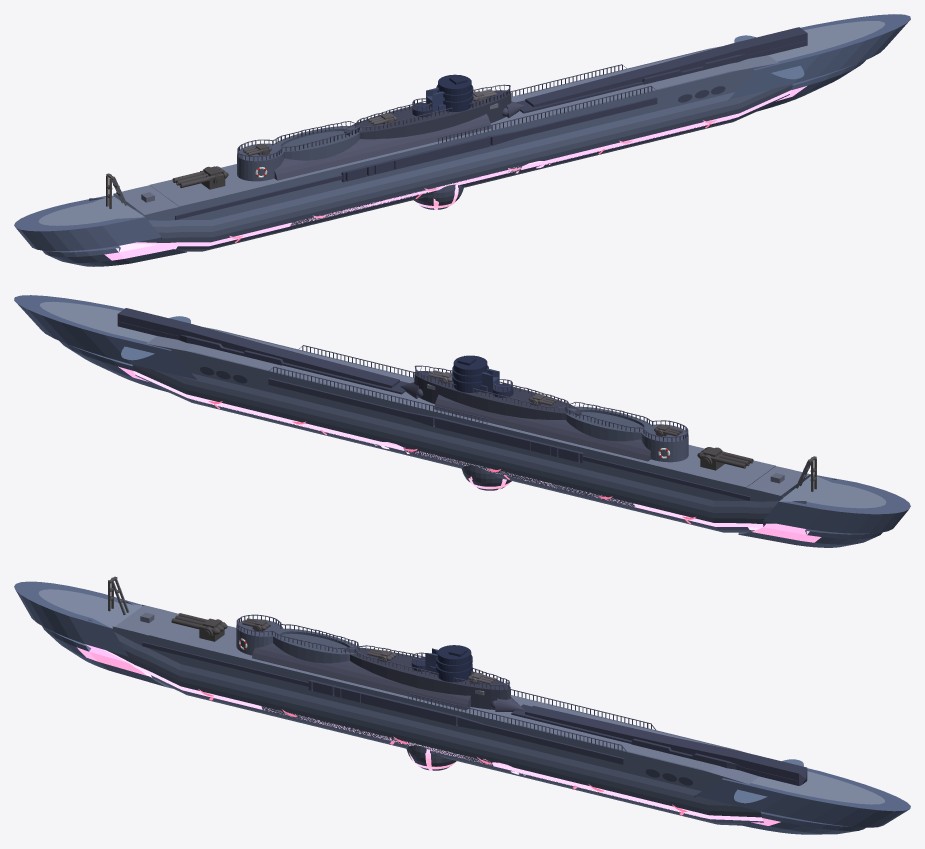
File: 伊402_完全版.fbx
3 renders of one model, top to bottom at view 1: azimuth 30°, elevation 25°; view 2: azimuth 150°, elevation 25°; view 3: azimuth 330°, elevation 25°, orthographic.
Visible parts, largest first — view 1: 円柱, 球, 立方体, 立方体.001, 円柱.002, 円柱.001, 円柱.003, 円柱.004, 立方体.014, 立方体.003, 立方体.007, 球.003; view 2: 円柱, 球, 立方体, 立方体.001, 円柱.002, 円柱.001, 円柱.003, 立方体.014, 円柱.004, 立方体.003, 立方体.007, 球.003; view 3: 円柱, 球, 立方体, 立方体.001, 円柱.002, 円柱.001, 円柱.003, 立方体.014, 立方体.003, 円柱.004, 立方体.007, 球.003.
Boxes of the visible parts, box(x1,y1,x2,y2) form: 円柱: box(89, 46, 792, 251); 球: box(14, 14, 910, 266); 立方体: box(515, 27, 807, 113); 立方体.001: box(175, 97, 657, 219); 円柱.002: box(274, 113, 491, 180); 円柱.001: box(344, 90, 511, 139); 円柱.003: box(271, 126, 361, 160); 円柱.004: box(237, 143, 284, 181); 立方体.014: box(438, 65, 648, 143); 立方体.003: box(436, 74, 473, 111); 立方体.007: box(172, 166, 228, 189); 球.003: box(413, 184, 463, 210); 円柱: box(132, 327, 836, 532); 球: box(14, 295, 910, 547); 立方体: box(117, 308, 409, 394); 立方体.001: box(268, 378, 750, 500); 円柱.002: box(434, 394, 650, 461); 円柱.001: box(414, 371, 581, 419); 円柱.003: box(565, 406, 654, 441); 立方体.014: box(276, 346, 487, 424); 円柱.004: box(641, 424, 688, 462); 立方体.003: box(452, 355, 488, 392); 立方体.007: box(697, 447, 753, 470); 球.003: box(461, 465, 511, 490); 円柱: box(88, 599, 763, 825); 球: box(14, 581, 910, 834); 立方体: box(511, 704, 807, 785); 立方体.001: box(142, 642, 624, 764); 円柱.002: box(252, 643, 470, 710); 円柱.001: box(343, 647, 510, 709); 円柱.003: box(270, 628, 358, 663); 立方体.014: box(408, 689, 648, 749); 立方体.003: box(436, 645, 472, 682); 円柱.004: box(236, 619, 283, 655); 立方体.007: box(171, 613, 227, 641); 球.003: box(406, 745, 456, 770).
Size of the model in its own units: 3212 by 422 by 361.
